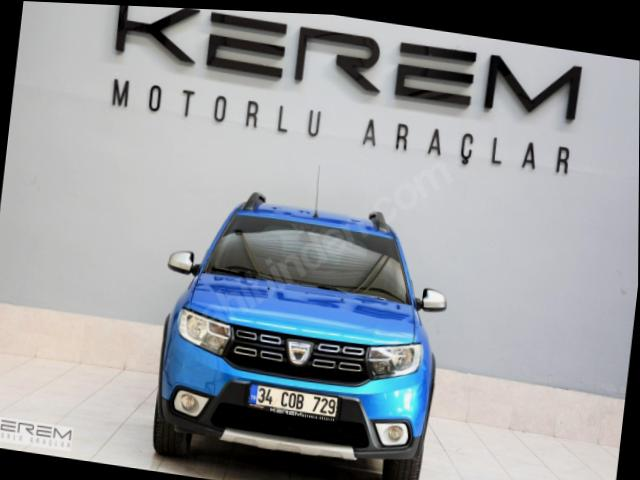plaka: (248, 384, 338, 419)
